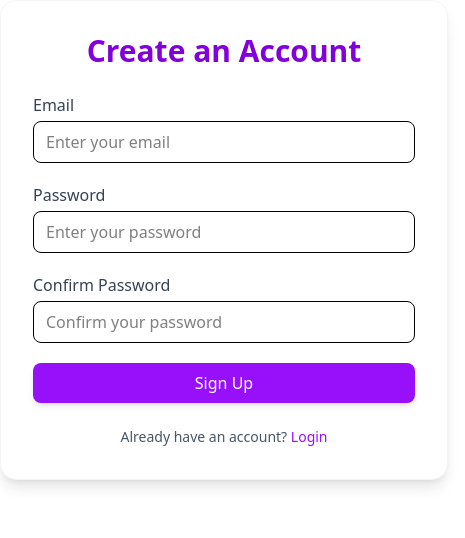
Test: shows API error message on failed signup
In the field with placeholder "Enter your email": [224, 142] box x1=33 y1=121 x2=415 y2=163, type "exists@example.com"
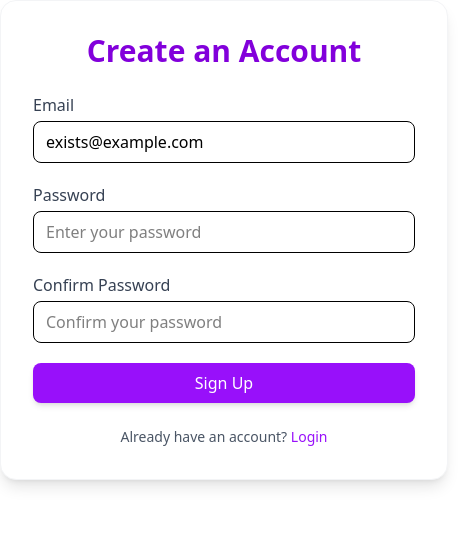
In the password field with placeholder "Enter your password": [224, 232] box x1=33 y1=211 x2=415 y2=253, type "password"
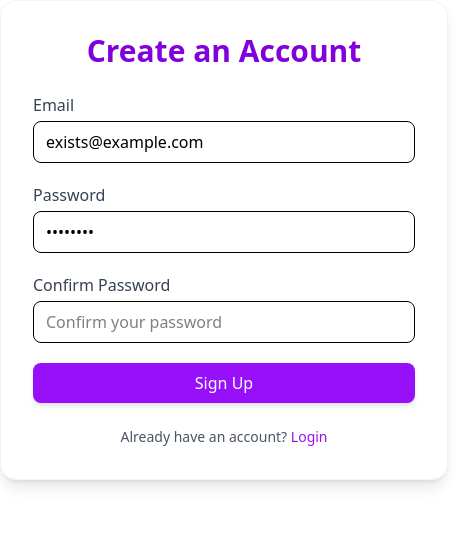
In the password field with placeholder "Confirm your password": [224, 322] box x1=33 y1=301 x2=415 y2=343, type "password"
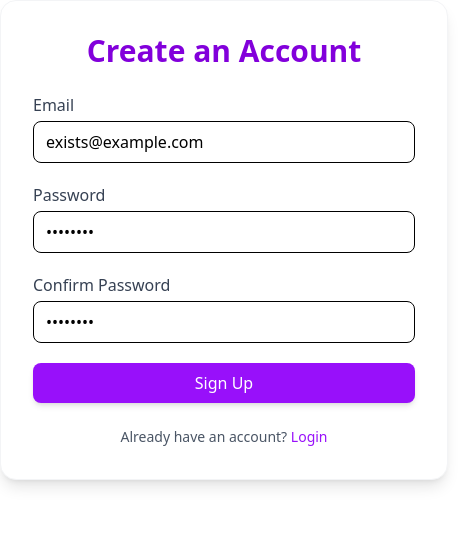
Click the button "Sign Up": [224, 383] box x1=33 y1=363 x2=415 y2=403
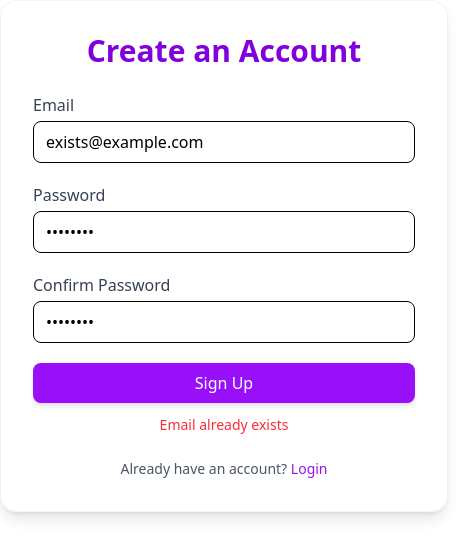
Check: the text "Email already exists" is shown, box x1=160 y1=415 x2=288 y2=434
